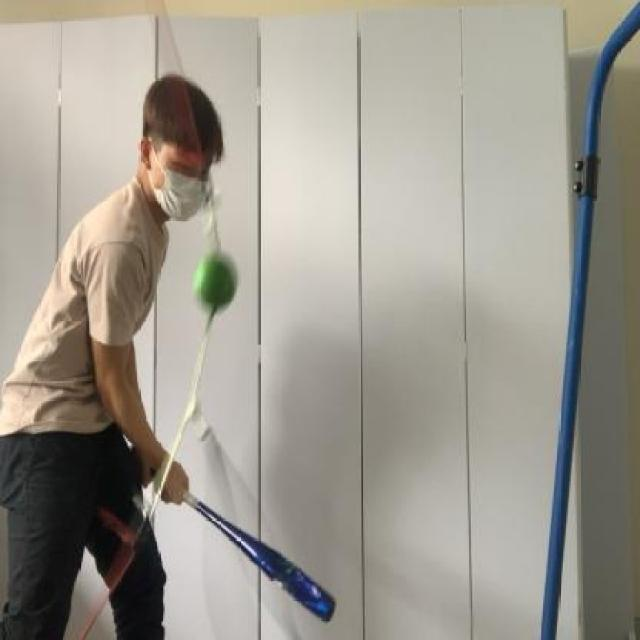baseball: (193, 242, 244, 315)
